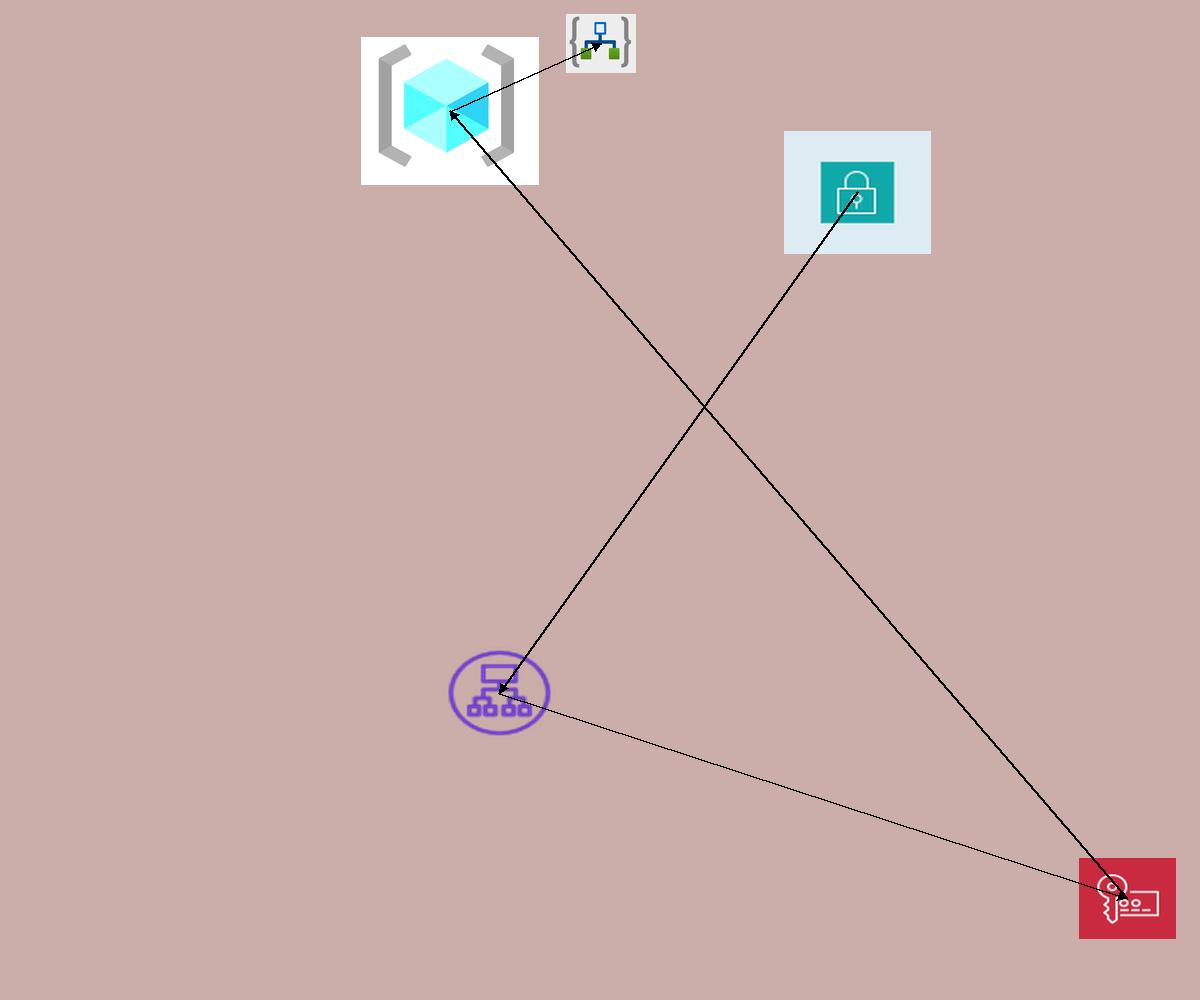AWS-Key-Management-Service: (1079, 858, 1176, 939)
AWS-Private-subnet: (784, 131, 931, 254)
AWS-Res_Elastic-Load-Balancing_Application-Load-Balancer: (444, 647, 555, 739)
Azure_integration-204-Logic-Apps: (566, 14, 636, 73)
Azure_resource_group: (361, 37, 539, 185)
